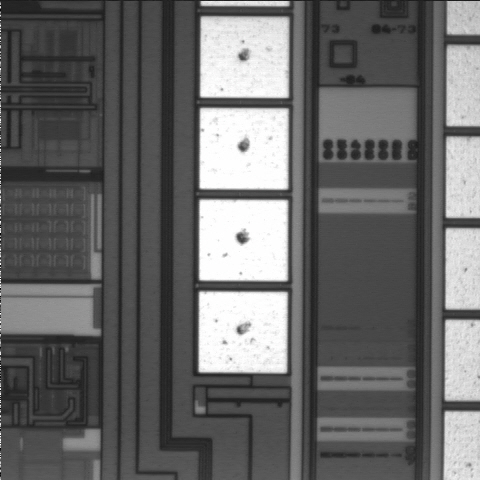pad: (200, 108, 288, 190), (200, 17, 289, 98), (199, 200, 288, 281), (199, 292, 288, 373)
